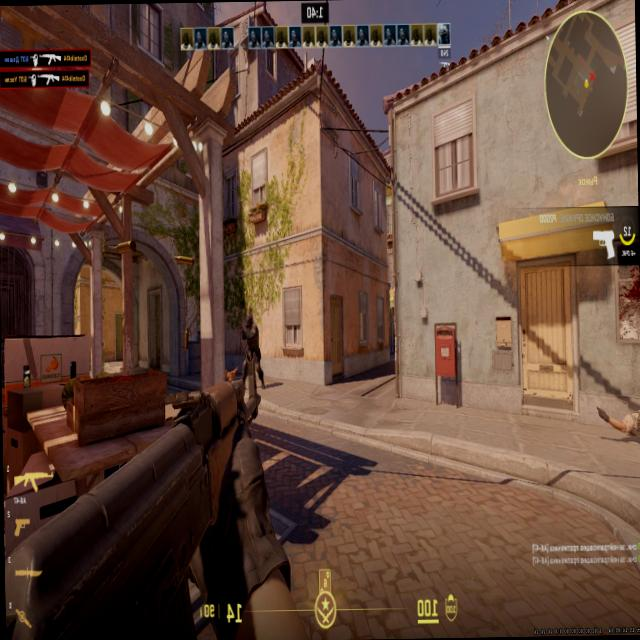CT: (245, 314, 256, 364)
CT_heat: (247, 315, 252, 330)
